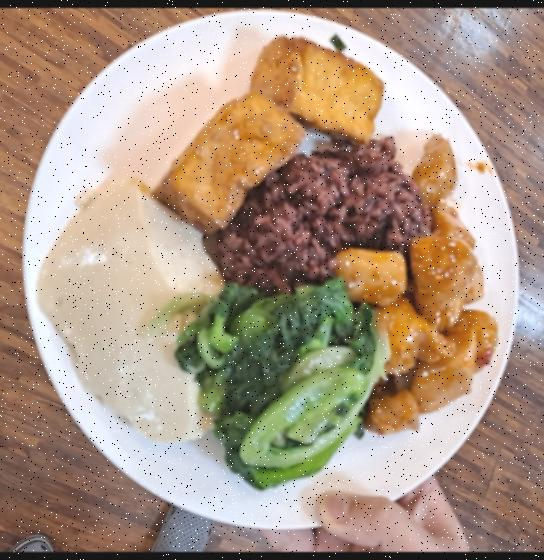plate: (22, 13, 523, 533)
purple rice: (213, 136, 432, 295)
side dish: (35, 174, 233, 447), (158, 41, 392, 232), (186, 271, 379, 496)
spicy chicken: (342, 134, 492, 442)
